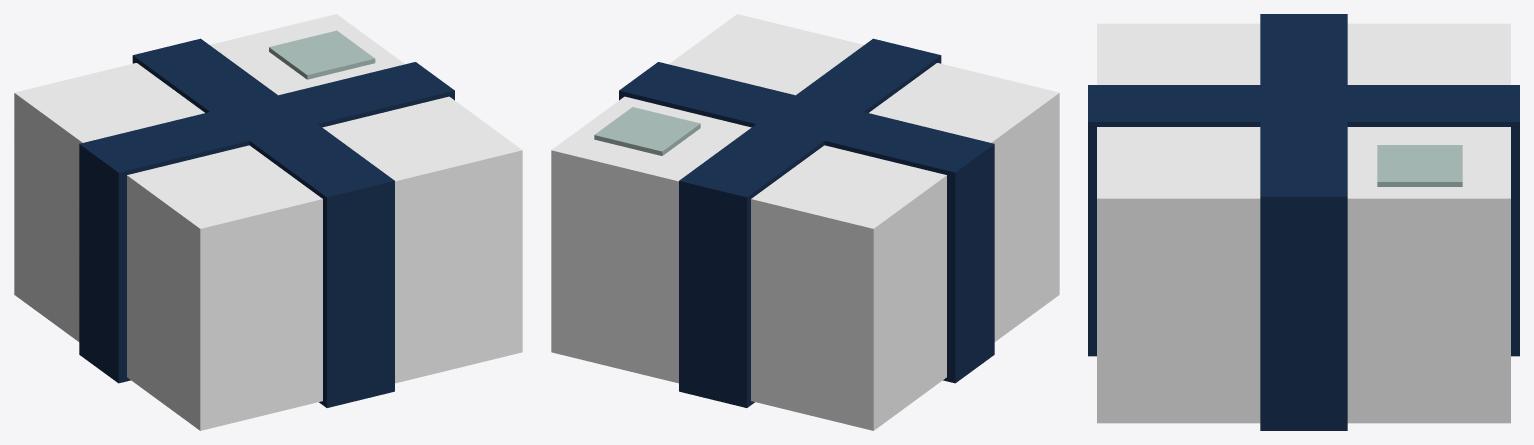
File: Portable Cardbox.glb
3 renders of one model, left to right at view 1: azimuth 30°, elevation 25°; view 2: azimuth 150°, elevation 25°; view 3: azimuth 270°, elevation 25°, orthographic. The views are drawn at different scales.
Visible parts, largest first — view 1: Cube, Cube.001, Cube.003, Cube.002; view 2: Cube, Cube.001, Cube.003, Cube.002; view 3: Cube, Cube.003, Cube.001, Cube.002.
Boxes of the visible parts, x1,y1,x2,y2 form: Cube: (14, 14, 522, 430); Cube.001: (132, 38, 394, 407); Cube.003: (79, 62, 454, 383); Cube.002: (269, 30, 375, 79); Cube: (551, 14, 1059, 430); Cube.001: (679, 38, 941, 407); Cube.003: (619, 62, 994, 383); Cube.002: (594, 107, 700, 155); Cube: (1097, 23, 1510, 423); Cube.003: (1260, 14, 1347, 430); Cube.001: (1088, 85, 1519, 356); Cube.002: (1377, 145, 1462, 186).
Bounding box in the file's own units: 2.09 × 1.25 × 2.09.
